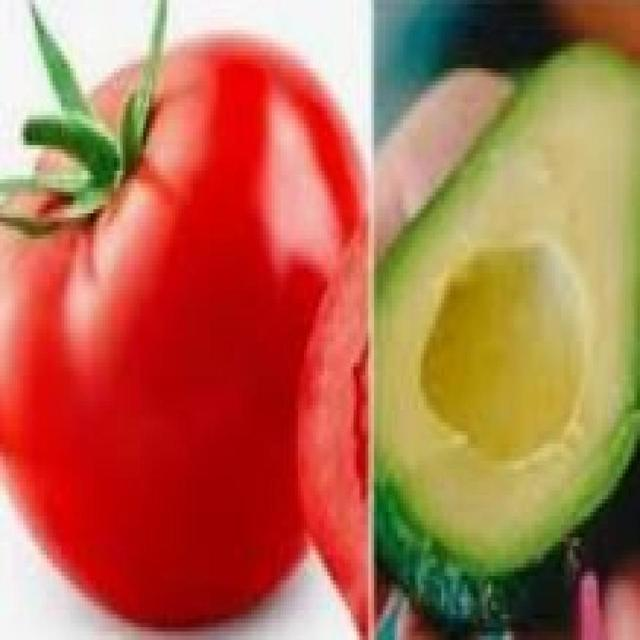Healthy Fruit: (1, 17, 235, 407)
